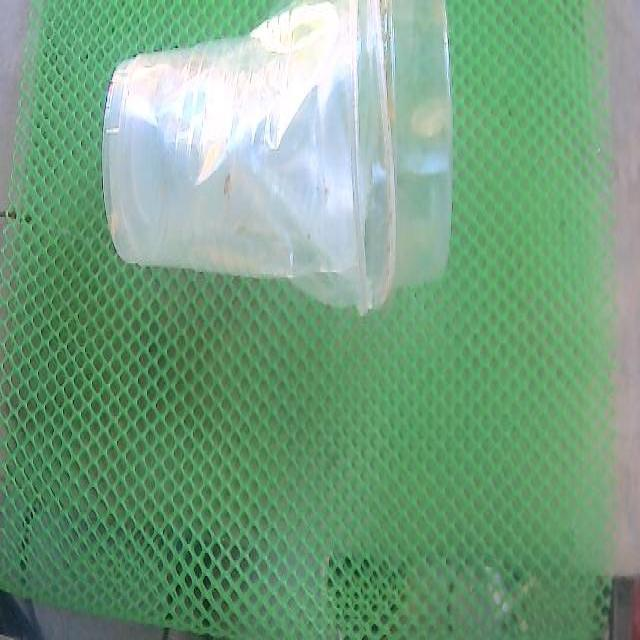bottle: (102, 4, 396, 312)
